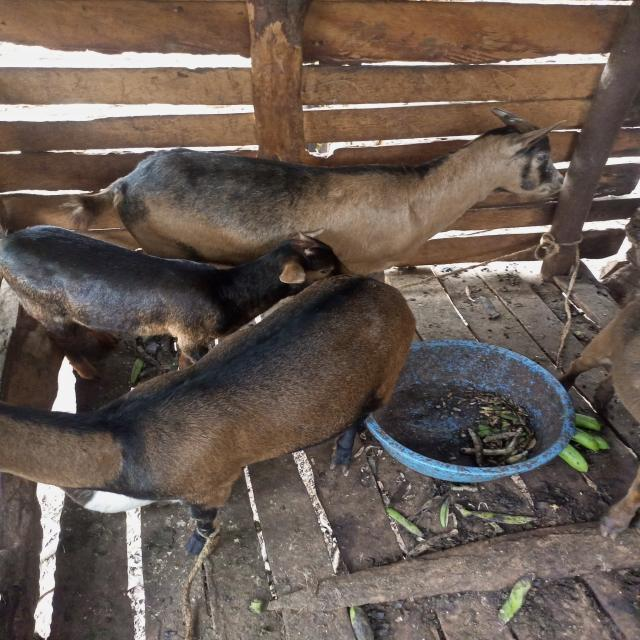goat: (0, 258, 464, 570)
